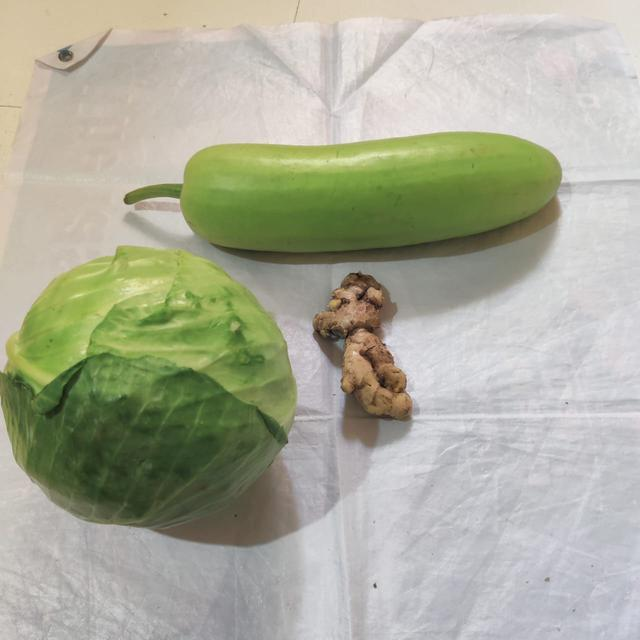Organik: (0, 244, 298, 526), (124, 132, 562, 247), (306, 271, 415, 413)
